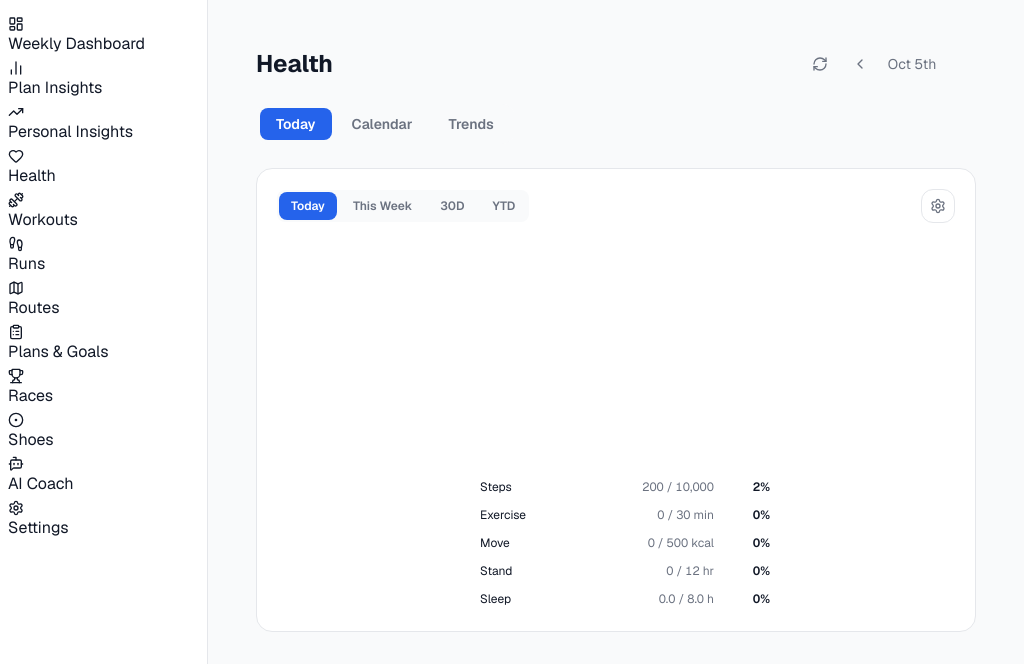
Test: Phase 2B Health correctness and authenticated retention › late All-time results after rapid re-entry cannot publish into the replacement page or bounded cache
The width and height of the screenshot is (1024, 664).
What coordinates should you click on to do the following:
click the button "Trends"
I would click on:
 (471, 124)
Its box is [432,108,510,140].
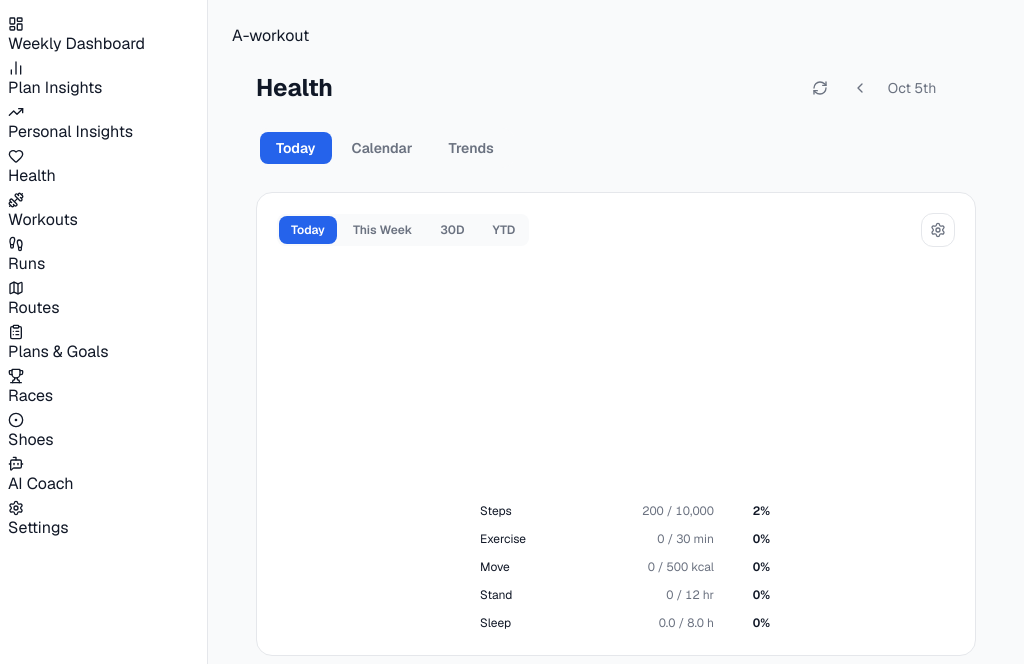
What coordinates should you click on to do the following:
click the button "Trends"
I would click on:
 (471, 148)
Its box is [432,132,510,164].
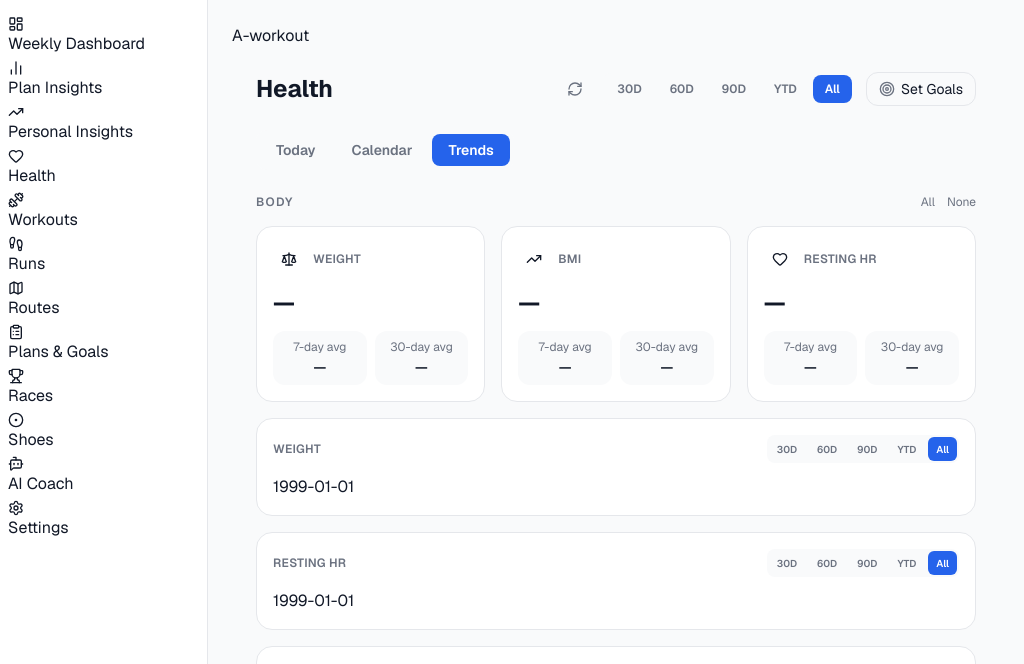
Expected: the 1st text with test id "chart-dates" reads "1999-01-01", [273,476,354,497]
